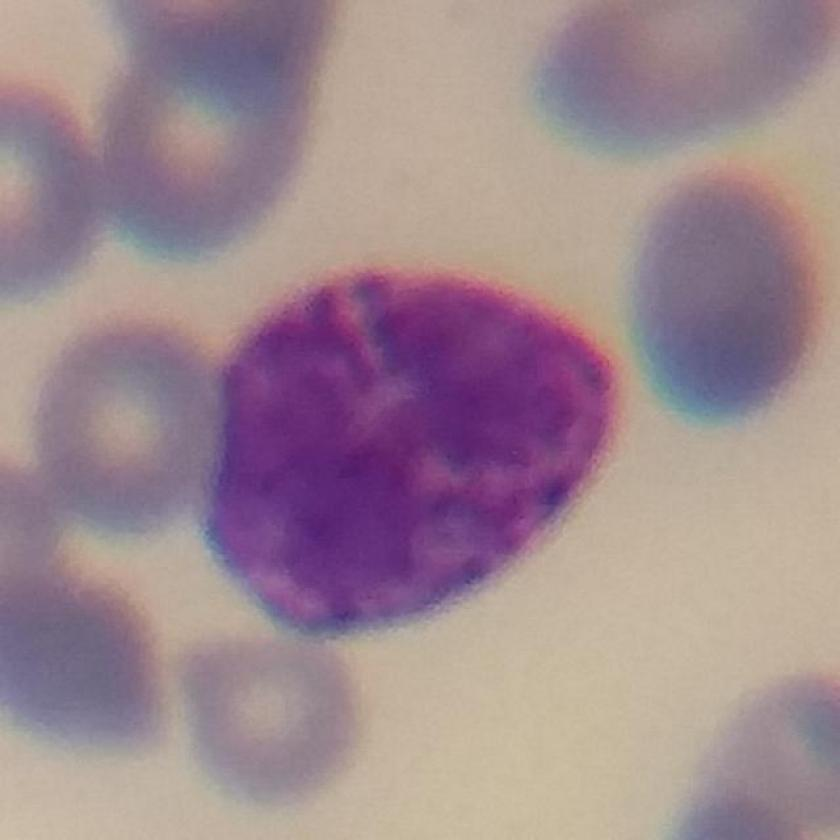basophil: (200, 257, 643, 648)
